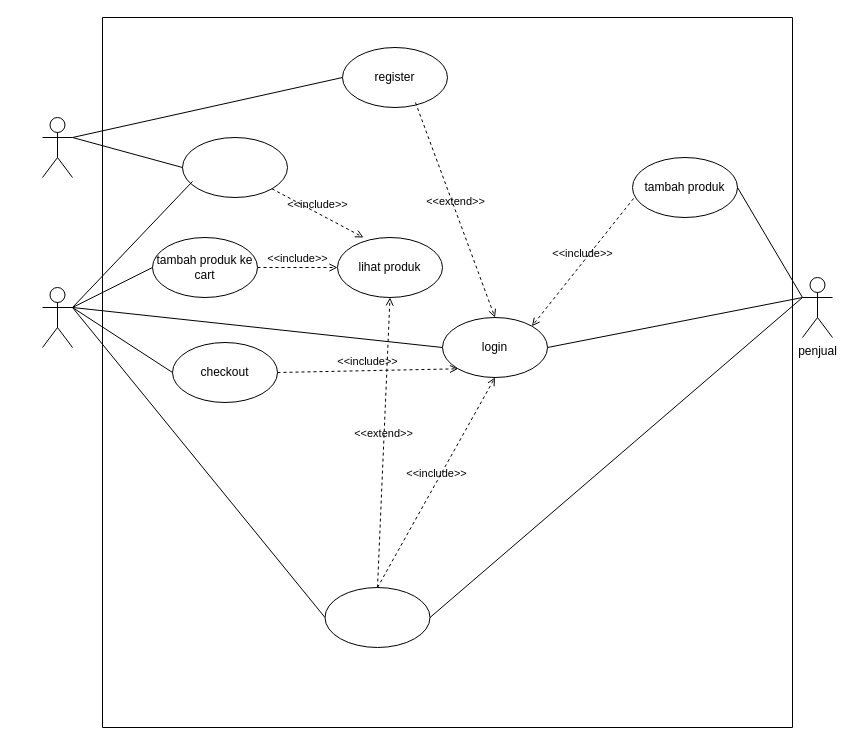
This 854x745 diagram has some shape labels left out. The shapes that lost their labels are listed below. From the top down, each one's centre as x and y in pixels, then its label:
At point 57,147: "pengguna baru".
At point 235,167: "cari produk".
At point 57,317: "customer".
At point 377,617: "feedback".
